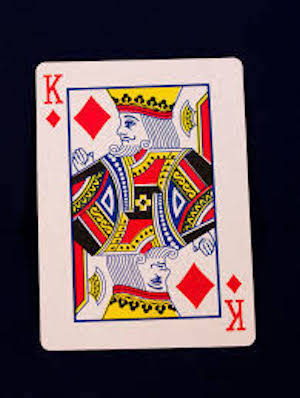KingOfDiamonds: (20, 39, 261, 361)
